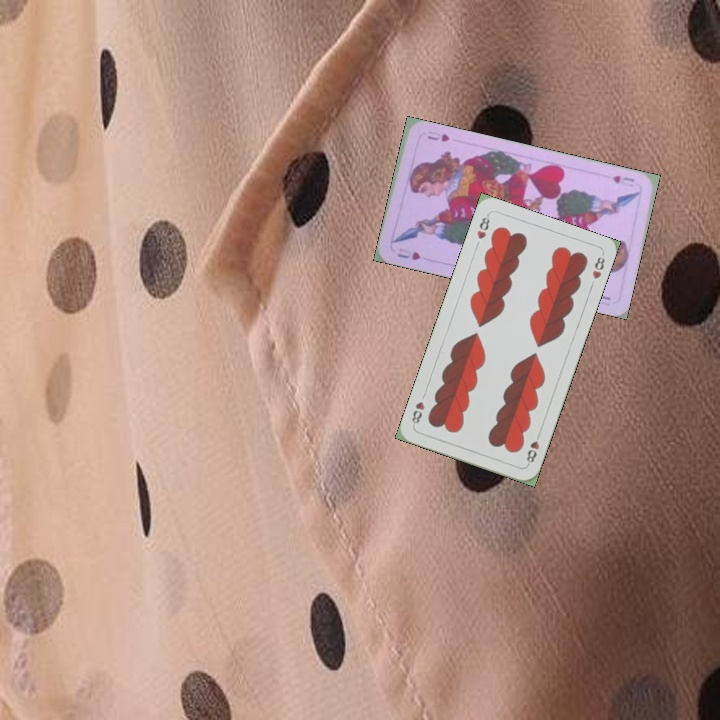H8: (522, 428, 543, 468), (473, 210, 492, 242)
HU: (394, 244, 423, 263), (609, 171, 637, 189)
